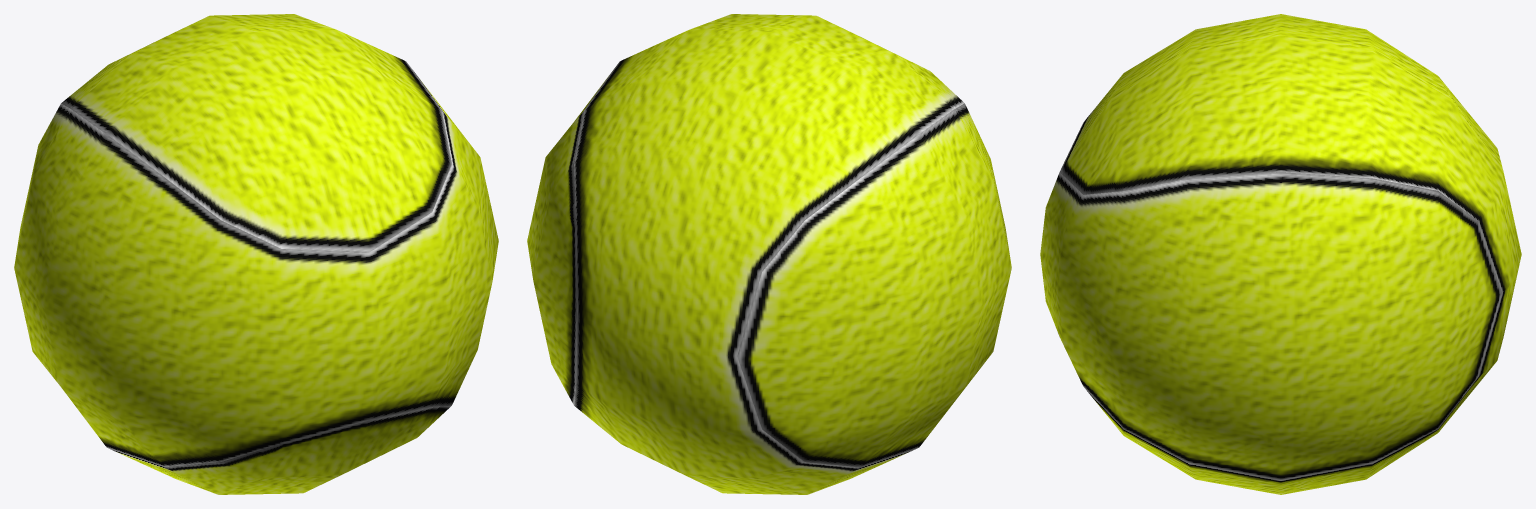
Rendered from TennisBall.fbx.
3 renders of one model, left to right at view 1: azimuth 30°, elevation 25°; view 2: azimuth 150°, elevation 25°; view 3: azimuth 270°, elevation 25°, orthographic.
Parts seen in each view (by area): view 1: Mesh; view 2: Mesh; view 3: Mesh.
Part boxes in pixels (x1,y1,x2,y2): Mesh: (14, 14, 498, 494); Mesh: (527, 14, 1011, 494); Mesh: (1040, 14, 1521, 494).
Size of the model in its own units: 0.66 by 0.66 by 0.66.
Materials: 1 (1 with a texture image).
